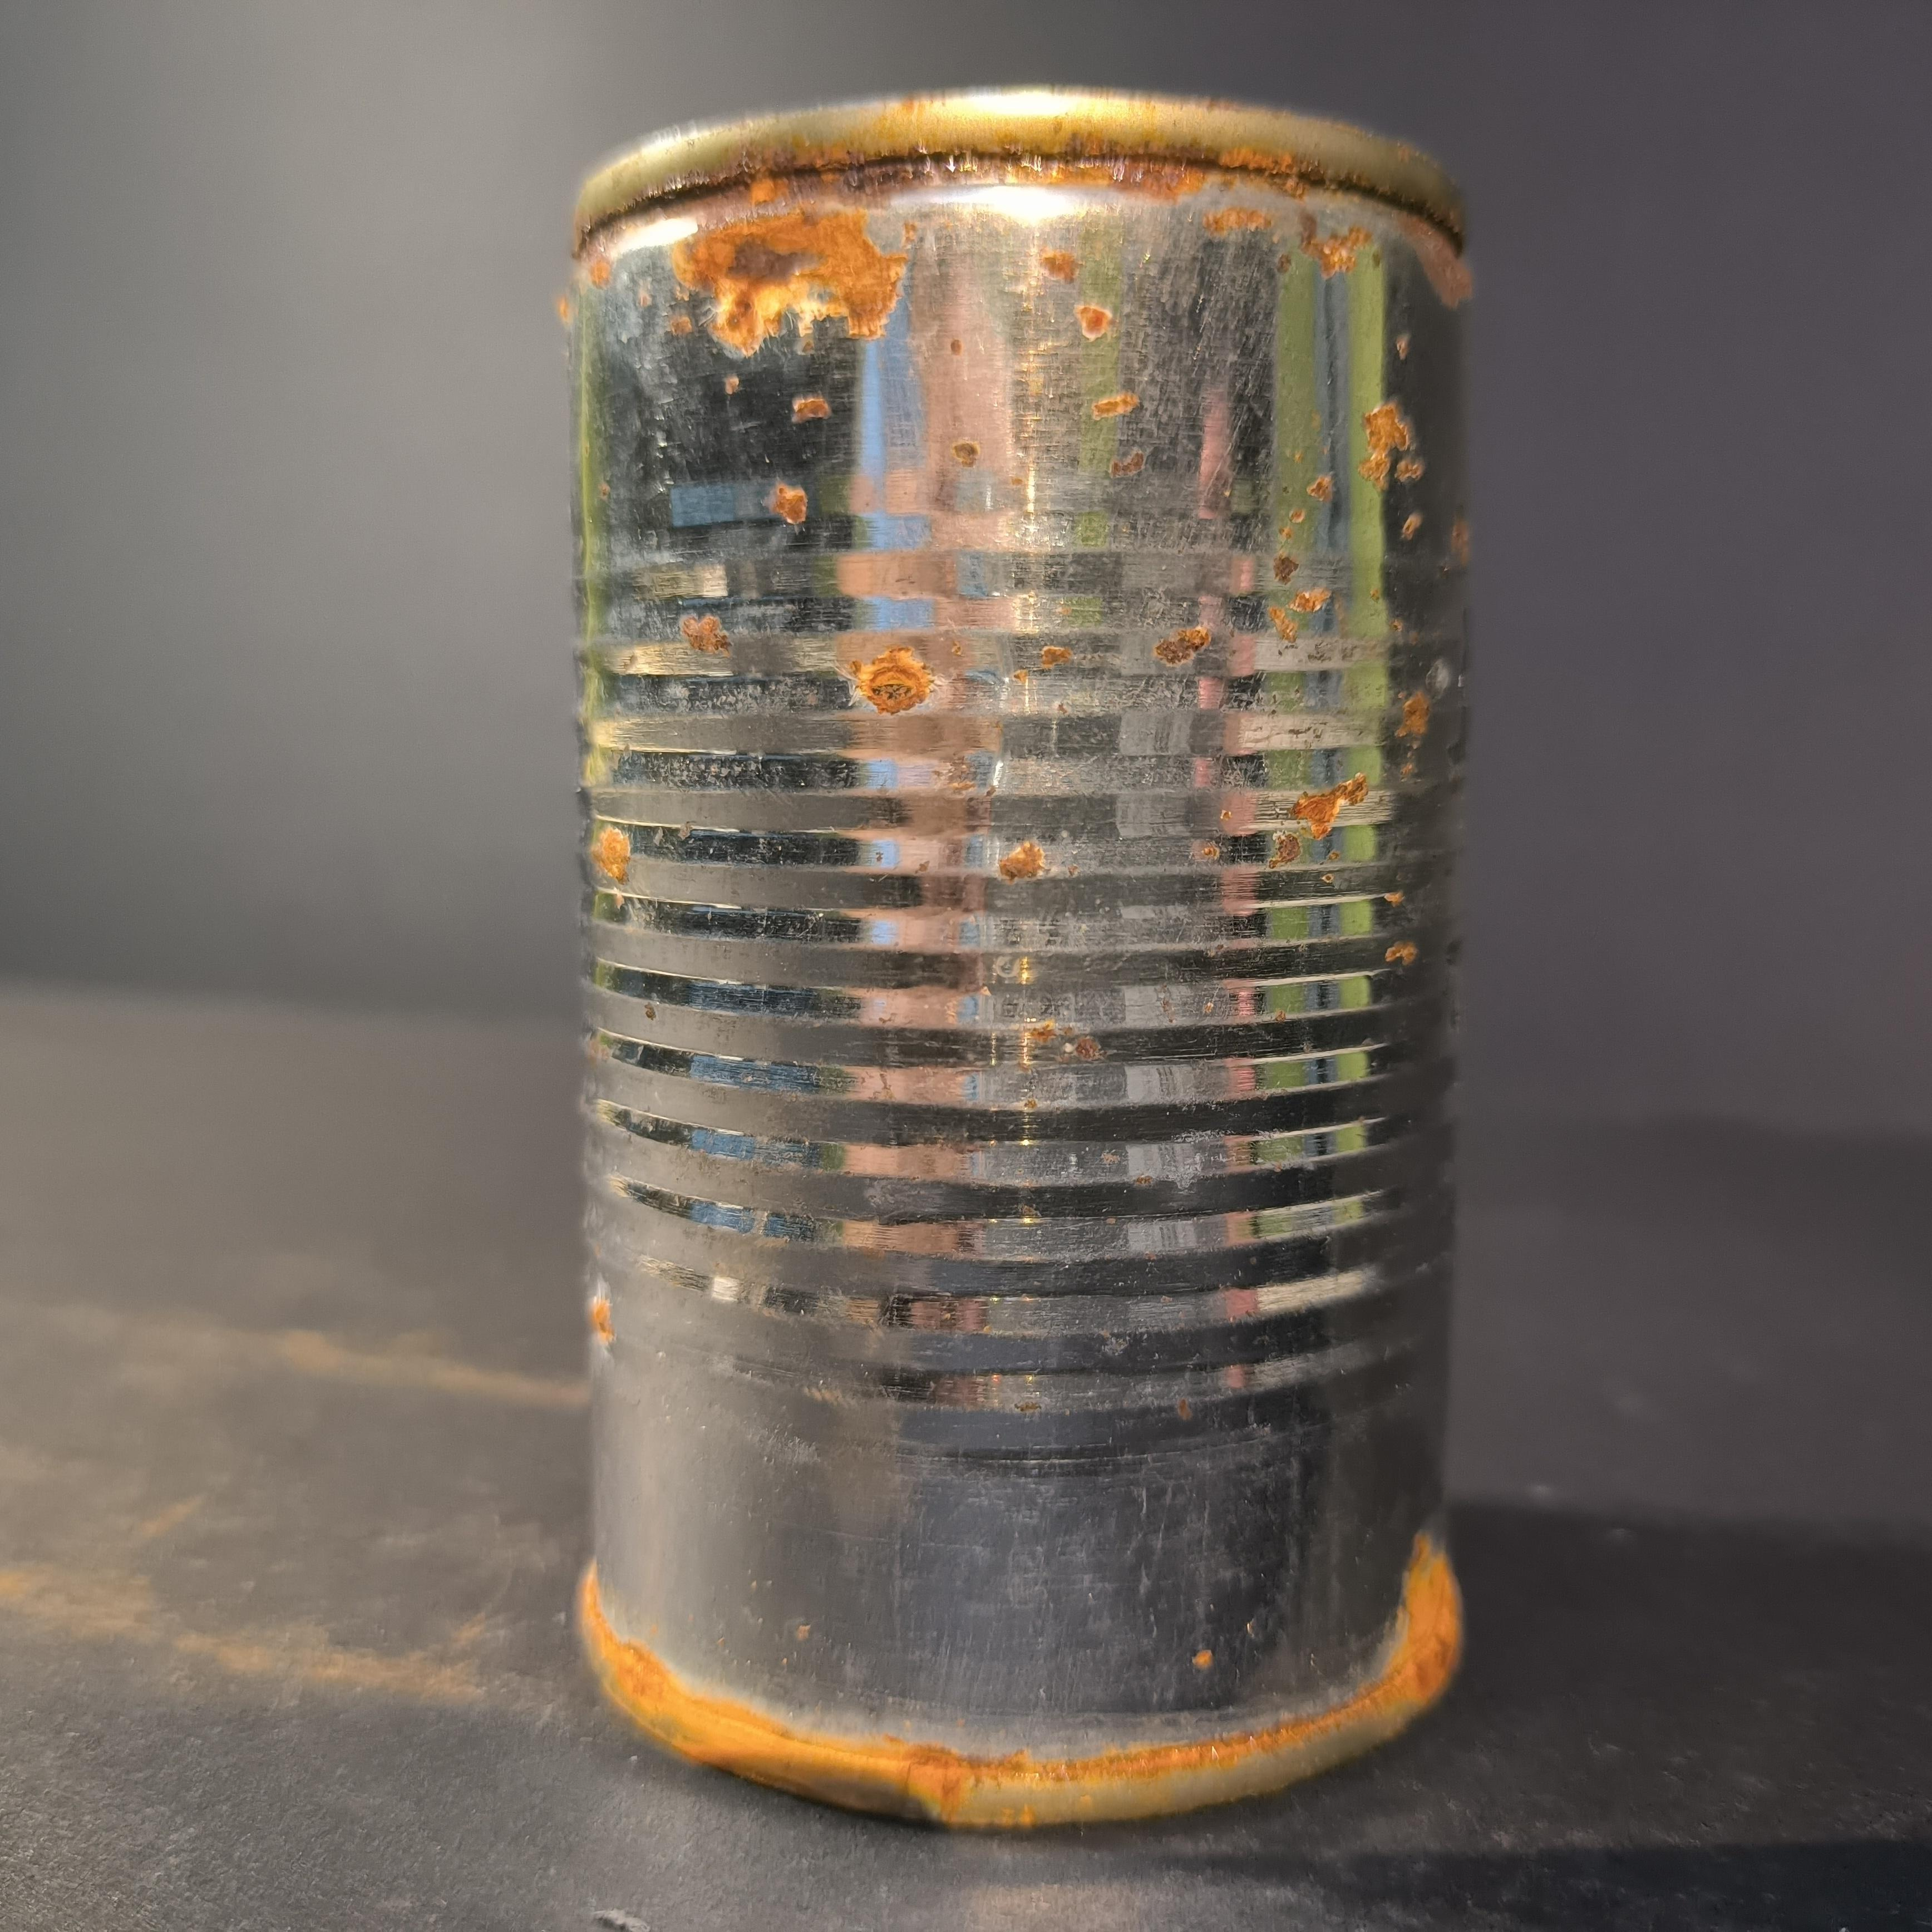Rusted: (563, 62, 1511, 1842)
